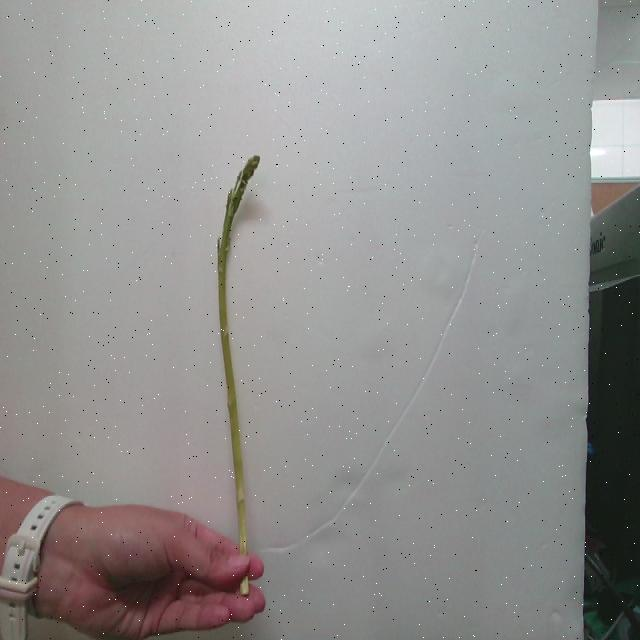aspargus: (215, 157, 258, 553)
